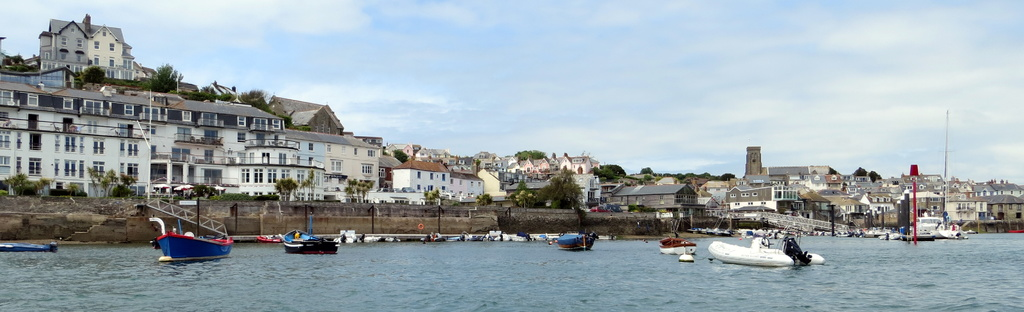boat: (141, 184, 247, 273), (909, 100, 971, 246), (701, 218, 831, 276), (277, 198, 341, 260), (550, 223, 605, 256), (657, 225, 700, 260)
